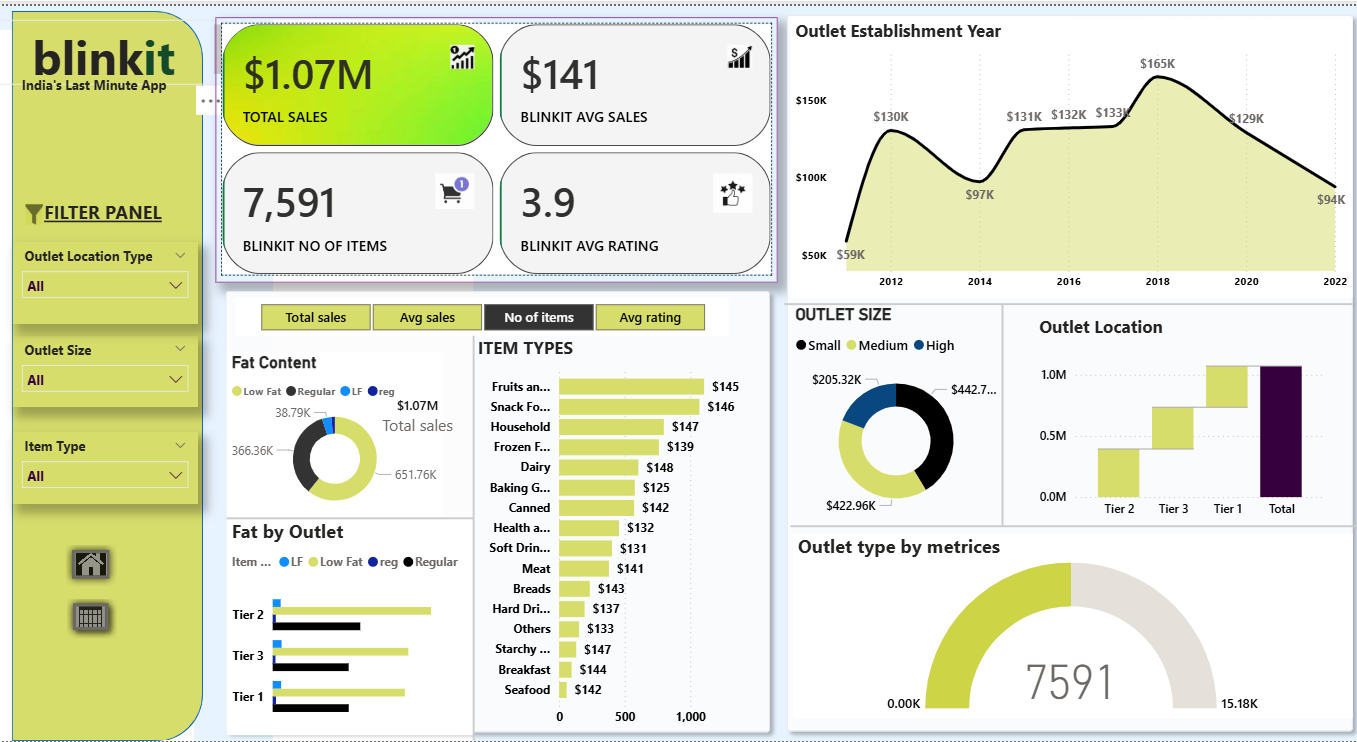

The page's visual inventory and layout, read from the dashboard file:
{"tool":"powerbi","page":{"name":"Page 1","canvas":[1400,750],"ordinal":0},"visuals":[{"type":"textbox","box":[5,24,205,750],"z":0},{"type":"shape","box":[24.4,5.1,194.9,744.9],"z":1000},{"type":"textbox","box":[0,13.6,243.2,66.6],"z":2000},{"type":"textbox","box":[291,14,204,750],"z":3000},{"type":"textbox","box":[6.8,66.6,203.8,50.3],"z":4000},{"type":"cardVisual","fields":{"Data":["blinkit.Total sales","blinkit.blinkit avg sales","blinkit.blinkit no of items","blinkit.blinkit Avg rating"]},"box":[232.1,11.5,573.1,270.5],"z":5000},{"type":"shape","box":[232.5,281.8,572.7,467.5],"z":6000},{"type":"donutChart","title":"Fat Content","fields":{"Y":["Sum(blinkit.Sales)"],"Category":["blinkit.Item Fat Content"]},"box":[242.9,353.2,220.8,168.8],"z":7000},{"type":"cardVisual","fields":{"Data":["blinkit.Total sales"]},"box":[380.5,380.5,114.3,71.4],"z":8000},{"type":"clusteredBarChart","title":"Fat by Outlet ","fields":{"Y":["blinkit.Total sales"],"Category":["blinkit.Outlet Location Type"],"Series":["blinkit.Item Fat Content"]},"box":[242.9,522.1,251.9,220.8],"z":9000},{"type":"shape","box":[459.7,313,70.1,436.4],"z":10000},{"type":"shape","box":[242.7,498.7,252,48],"z":11000},{"type":"barChart","title":"ITEM  TYPES","fields":{"Y":["blinkit.blinkit no of items"],"Category":["blinkit.Item Type"]},"box":[494.8,336.4,298.7,406.5],"z":12000},{"type":"shape","box":[805.2,0,594.8,748.1],"z":13000},{"type":"lineChart","title":" Outlet Establishment Year","fields":{"Category":["blinkit.Outlet Establishment Year"],"Y":["blinkit.Total sales"]},"box":[817.9,12.8,573.1,284.6],"z":14000},{"type":"donutChart","title":"OUTLET SIZE","fields":{"Y":["blinkit.Total sales"],"Category":["blinkit.Outlet Size"]},"box":[818.2,303.9,215.6,227.3],"z":15000},{"type":"shape","box":[811.7,271.4,579.2,64.9],"z":16000},{"type":"shape","box":[1001.4,304.3,65.2,225.5],"z":17000},{"type":"waterfallChart","title":"Outlet Location ","fields":{"Category":["blinkit.Outlet Location Type"],"Y":["Sum(blinkit.Sales)"]},"box":[1066.6,315.2,301.6,216],"z":18000},{"type":"shape","box":[818.2,516.9,581.8,26],"z":19000},{"type":"slicer","fields":{"Values":["blinkit.Outlet Location Type"]},"box":[24.7,240.3,189.6,83.1],"z":20000},{"type":"slicer","fields":{"Values":["blinkit.Outlet Size"]},"box":[24.7,336.4,189.6,72.7],"z":21000},{"type":"slicer","fields":{"Values":["blinkit.Item Type"]},"box":[24.7,433.8,189.6,72.7],"z":22000},{"type":"textbox","box":[24.4,192.3,185.9,42.3],"z":23000},{"type":"gauge","title":"Outlet type by metrices","fields":{"Y":["blinkit.blinkit no of items"]},"box":[820.8,537.7,570.1,188.3],"z":24000},{"type":"slicer","fields":{"Values":["metrices.metrices"]},"box":[251.9,297.4,502.6,39],"z":25000},{"type":"actionButton","box":[78.2,546.2,53.8,44.9],"z":26000},{"type":"actionButton","box":[78.2,600,53.8,44.9],"z":27000},{"type":"actionButton","box":[38.5,201.3,17.9,21.8],"z":28000}]}

Visuals, with their boxes in screenshot pixels (x1, y1, x2, y2), scaled from the page's 1400x750 canvas onto the 1357x742 screenshot:
textbox: (5, 24, 204, 741)
shape: (24, 5, 213, 741)
textbox: (0, 13, 236, 79)
textbox: (282, 14, 480, 741)
textbox: (7, 66, 204, 116)
cardVisual - blinkit.Total sales x blinkit.blinkit avg sales: (225, 11, 780, 279)
shape: (225, 279, 780, 741)
"Fat Content" donutChart: (235, 349, 449, 516)
cardVisual - blinkit.Total sales: (369, 376, 480, 447)
"Fat by Outlet " clusteredBarChart: (235, 517, 480, 735)
shape: (446, 310, 514, 741)
shape: (235, 493, 480, 541)
"ITEM  TYPES" barChart: (480, 333, 769, 735)
shape: (780, 0, 1356, 740)
" Outlet Establishment Year" lineChart: (793, 13, 1348, 294)
"OUTLET SIZE" donutChart: (793, 301, 1002, 526)
shape: (787, 269, 1348, 333)
shape: (971, 301, 1034, 524)
"Outlet Location " waterfallChart: (1034, 312, 1326, 526)
shape: (793, 511, 1356, 537)
slicer - blinkit.Outlet Location Type: (24, 238, 208, 320)
slicer - blinkit.Outlet Size: (24, 333, 208, 405)
slicer - blinkit.Item Type: (24, 429, 208, 501)
textbox: (24, 190, 204, 232)
"Outlet type by metrices" gauge: (796, 532, 1348, 718)
slicer - metrices.metrices: (244, 294, 731, 333)
actionButton: (76, 540, 128, 585)
actionButton: (76, 594, 128, 638)
actionButton: (37, 199, 55, 221)
